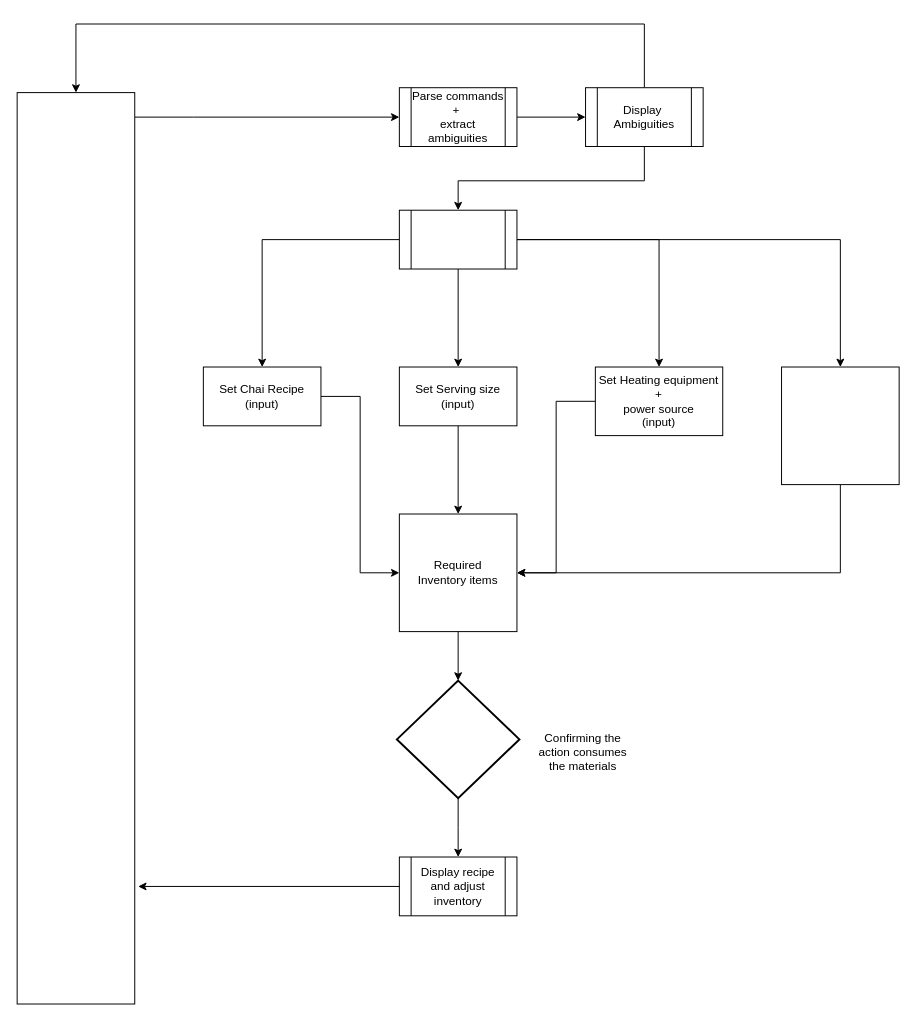
The diagram is 916 pixels wide and 1021 high, and some of its shapes have lost their labels. The box of each missing label's shape, as (x1, y1, x2, y2) in pixels:
All items ready and action confirmed: (395, 679, 520, 799)
Chat History: (16, 92, 135, 1004)
EditCurrent Inventory items (table and input): (781, 366, 899, 485)
Execute commands: (398, 209, 517, 269)
